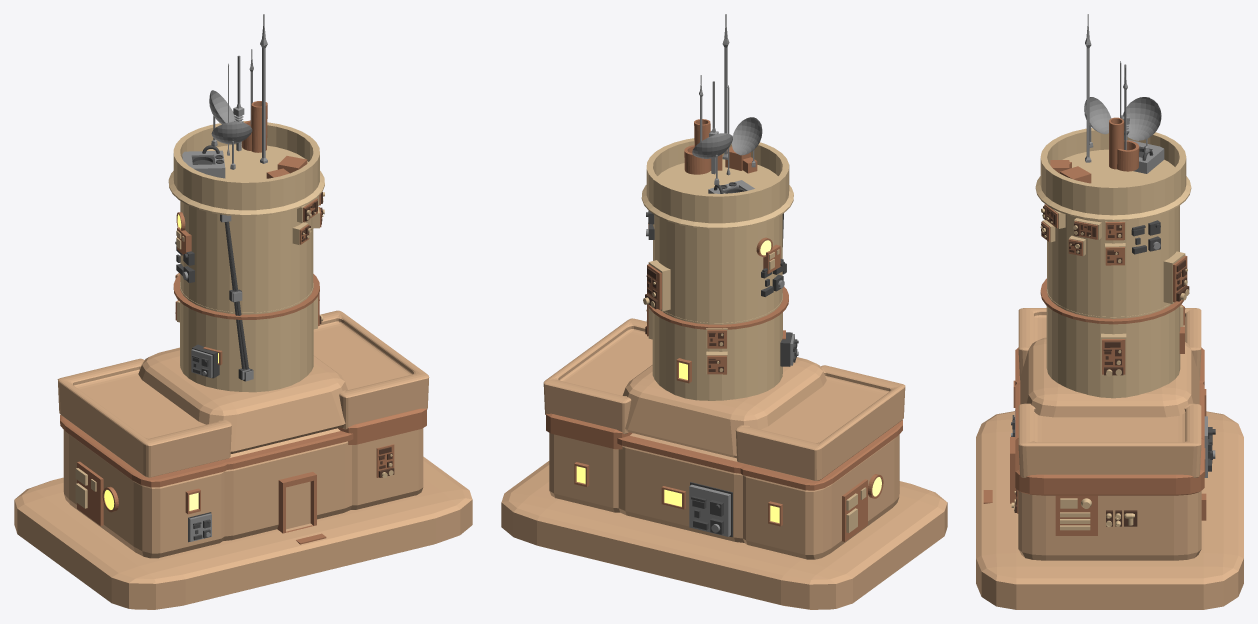
The model's file is nomad_building_35.fbx.
3 renders of one model, left to right at view 1: azimuth 30°, elevation 25°; view 2: azimuth 150°, elevation 25°; view 3: azimuth 270°, elevation 25°, orthographic. The views are drawn at different scales.
Parts seen in each view (by area): view 1: B35_M_Foundation_rectangular, B35_M_R02_roof_simple, B35_T_Drum1, B35_M_R00_square_roof_defualt, B35_T_Crown_RoofDeck_Ringwall, B35_M_Blk02_rectangular_unit, B35_T_Drum0, B35_M_R01_roof_simple, B35_M_Blk00_base, B35_M_Blk01_rectangular_unit, B35_M_B02_Band_square_diameter_default, B35_M_B01_Band_square_diameter_thich (+8 smaller); view 2: B35_M_Foundation_rectangular, B35_M_R02_roof_simple, B35_T_Drum1, B35_T_Crown_RoofDeck_Ringwall, B35_M_R00_square_roof_defualt, B35_M_Blk02_rectangular_unit, B35_T_Drum0, B35_M_R01_roof_simple, B35_M_Blk00_base, B35_M_Blk01_rectangular_unit, B35_M_B02_Band_square_diameter_default, B35_M_B01_Band_square_diameter_thich (+6 smaller); view 3: B35_M_Foundation_rectangular, B35_M_R01_roof_simple, B35_M_Blk01_rectangular_unit, B35_T_Crown_RoofDeck_Ringwall, B35_T_Drum1, B35_T_Drum0, B35_M_R00_square_roof_defualt, B35_M_B01_Band_square_diameter_thich, B35_M_R02_roof_simple, B35_T_Dish0_AntennaDish_Reflector, B35_M_Panel2_PanelBox_Body001, B35_T_Ring00_TowerTrim_BandThin (+9 smaller).
Boxes of the visible parts, x1,y1,x2,y2 form: B35_M_Foundation_rectangular: [14, 456, 472, 609]; B35_M_R02_roof_simple: [57, 358, 231, 477]; B35_T_Drum1: [180, 201, 313, 312]; B35_M_R00_square_roof_defualt: [138, 347, 347, 453]; B35_T_Crown_RoofDeck_Ringwall: [168, 121, 324, 216]; B35_M_Blk02_rectangular_unit: [63, 430, 224, 558]; B35_T_Drum0: [180, 282, 313, 392]; B35_M_R01_roof_simple: [313, 310, 429, 429]; B35_M_Blk00_base: [223, 428, 351, 540]; B35_M_Blk01_rectangular_unit: [350, 428, 423, 509]; B35_M_B02_Band_square_diameter_default: [60, 415, 226, 487]; B35_M_B01_Band_square_diameter_thich: [338, 408, 426, 444]; B35_M_Foundation_rectangular: [501, 461, 947, 609]; B35_M_R02_roof_simple: [735, 365, 905, 480]; B35_T_Drum1: [653, 214, 782, 322]; B35_T_Crown_RoofDeck_Ringwall: [641, 138, 793, 229]; B35_M_R00_square_roof_defualt: [622, 357, 826, 458]; B35_M_Blk02_rectangular_unit: [743, 434, 899, 559]; B35_T_Drum0: [652, 293, 782, 400]; B35_M_R01_roof_simple: [543, 318, 652, 433]; B35_M_Blk00_base: [618, 433, 744, 542]; B35_M_Blk01_rectangular_unit: [549, 433, 619, 512]; B35_M_B02_Band_square_diameter_default: [740, 420, 902, 490]; B35_M_B01_Band_square_diameter_thich: [546, 413, 632, 449]; B35_M_Foundation_rectangular: [976, 411, 1243, 609]; B35_M_R01_roof_simple: [1018, 403, 1201, 477]; B35_M_Blk01_rectangular_unit: [1018, 491, 1201, 560]; B35_T_Crown_RoofDeck_Ringwall: [1035, 128, 1191, 221]; B35_T_Drum1: [1047, 205, 1179, 316]; B35_T_Drum0: [1046, 289, 1180, 398]; B35_M_R00_square_roof_defualt: [1020, 337, 1199, 417]; B35_M_B01_Band_square_diameter_thich: [1015, 438, 1204, 495]; B35_M_R02_roof_simple: [1018, 308, 1201, 379]; B35_T_Dish0_AntennaDish_Reflector: [1122, 97, 1161, 140]; B35_M_Panel2_PanelBox_Body001: [1055, 495, 1097, 535]; B35_T_Ring00_TowerTrim_BandThin: [1040, 278, 1183, 324].
Bounding box in the file's own units: 462 × 644 × 301.
